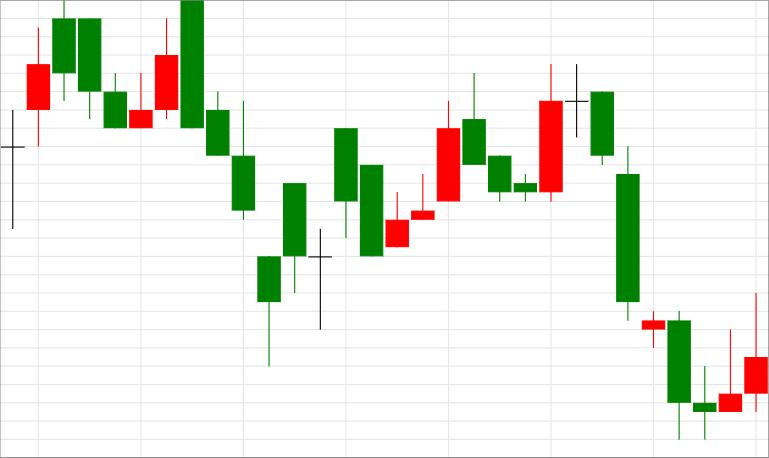hammer_rise: (155, 1, 281, 366)
